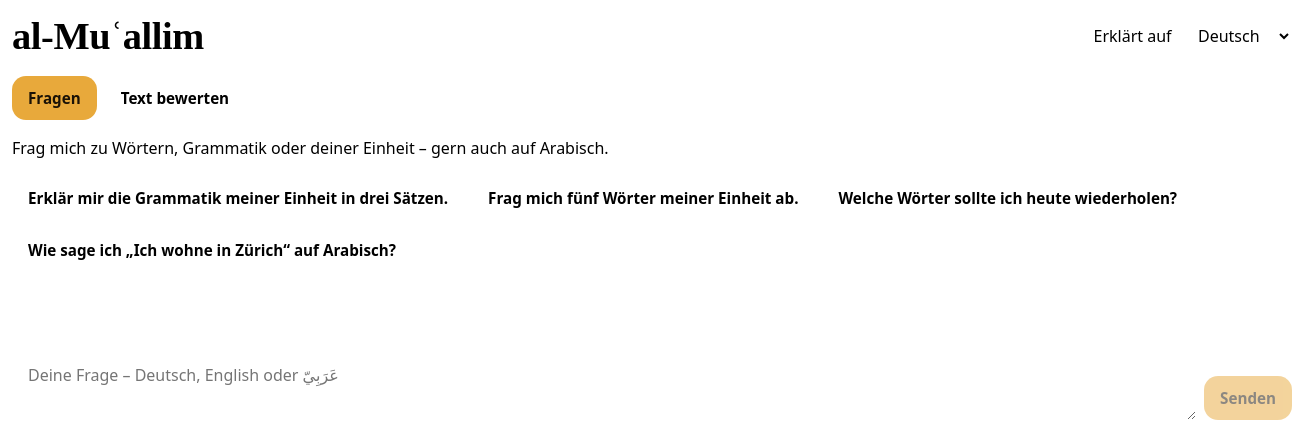
al-Muʿallim page › follows the tashkīl setting and shows a replaced answer
Type "Ein Satz bitte" into the text box named "Deine Nachricht an al-Muʿallim" at (604, 386), box [12, 352, 1196, 420]
Then press Enter
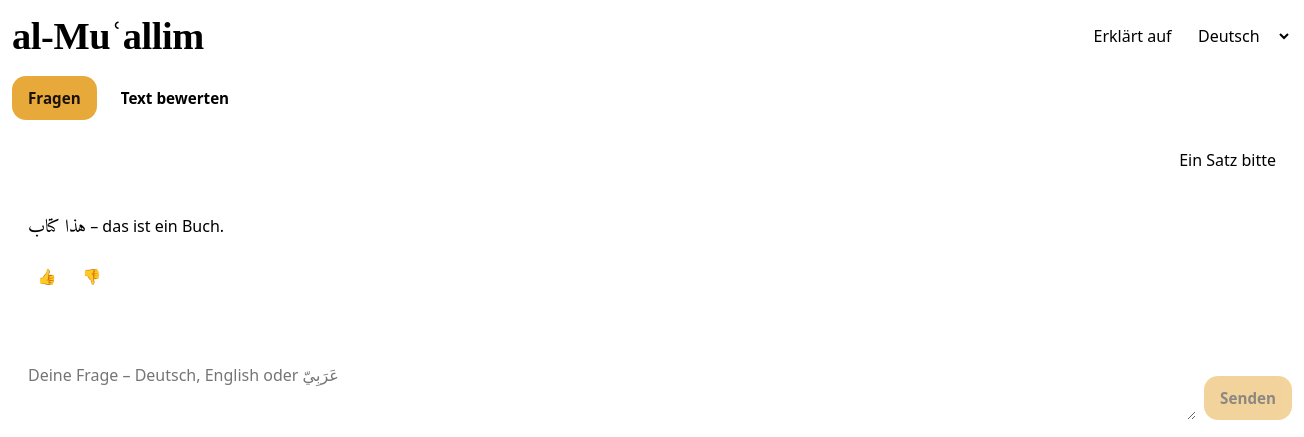
Expected: the text "هذا كتاب" is shown, [28, 211, 86, 244]
Expected: the text "هذا كتاب – das ist ein Buch." is shown, [28, 215, 224, 237]
